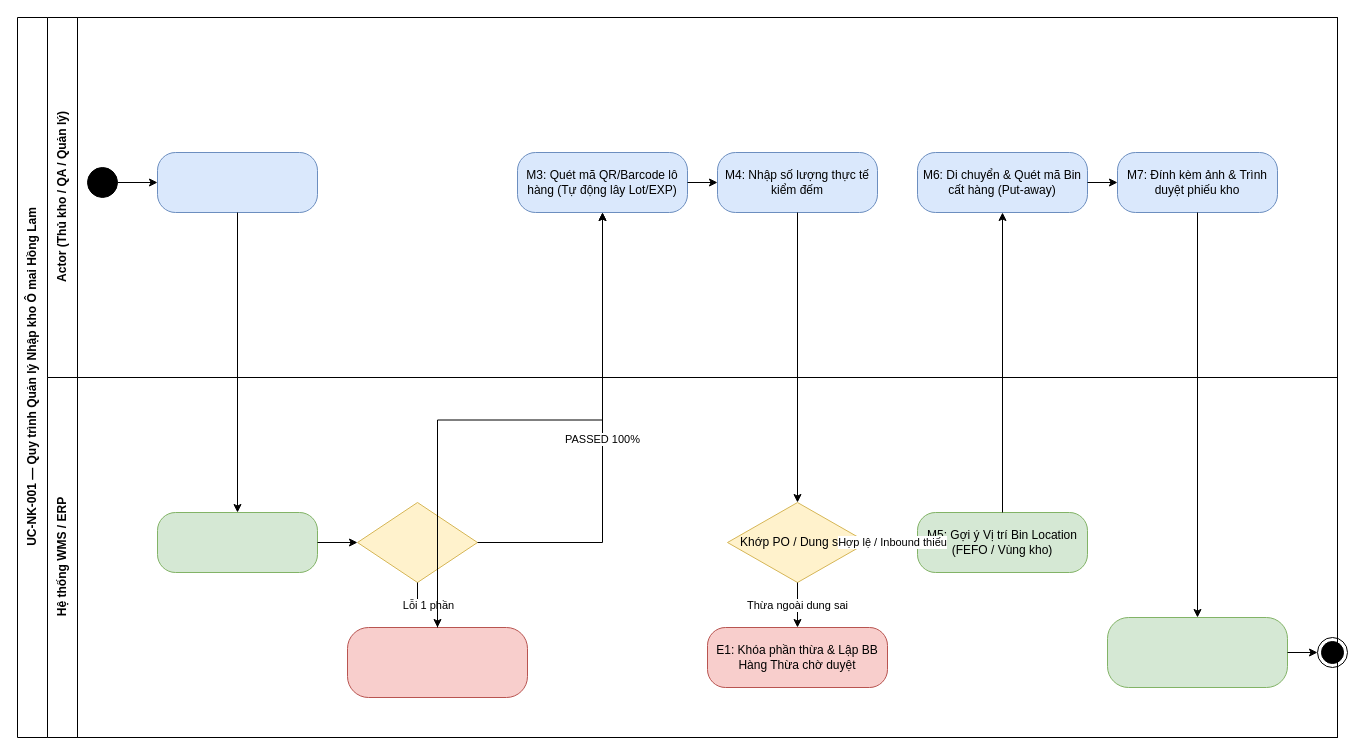
Some shapes in this 1365 by 755 pixel diagram are drawn without their labels. Here are the shapes that lost their labels. From the top down, the centre of each, then its label:
At [237,182]: "M1: Chọn Loại phiếu & Mã PO/Đơn hàng".
At [237,542]: "M2: Kiểm tra PO & Trạng thái QC".
At [417,542]: "Kiểm định QC?".
At [437,662]: "E2: Tách 2 phiếu (Phiếu A: Đạt / Phiếu B: Lỗi cất Khu Biệt Trữ)".
At [1197,652]: "M8: 3-Way Matching & Duyệt phiếu (APPROVED) -> Sync ERP".
